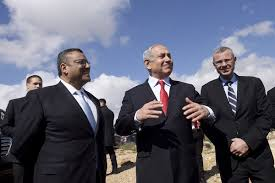middle_eastern_male: (57, 52, 92, 81)
